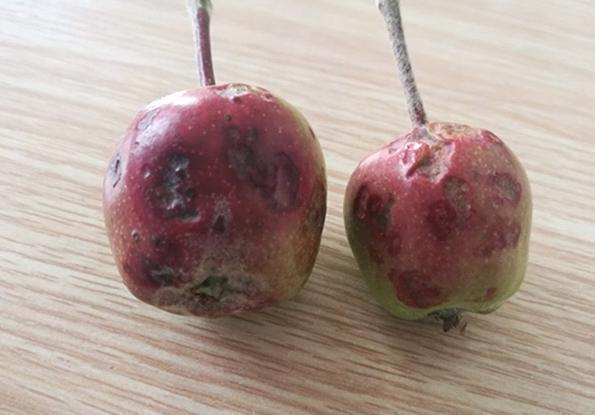apple: (99, 80, 327, 318), (342, 119, 535, 331)
